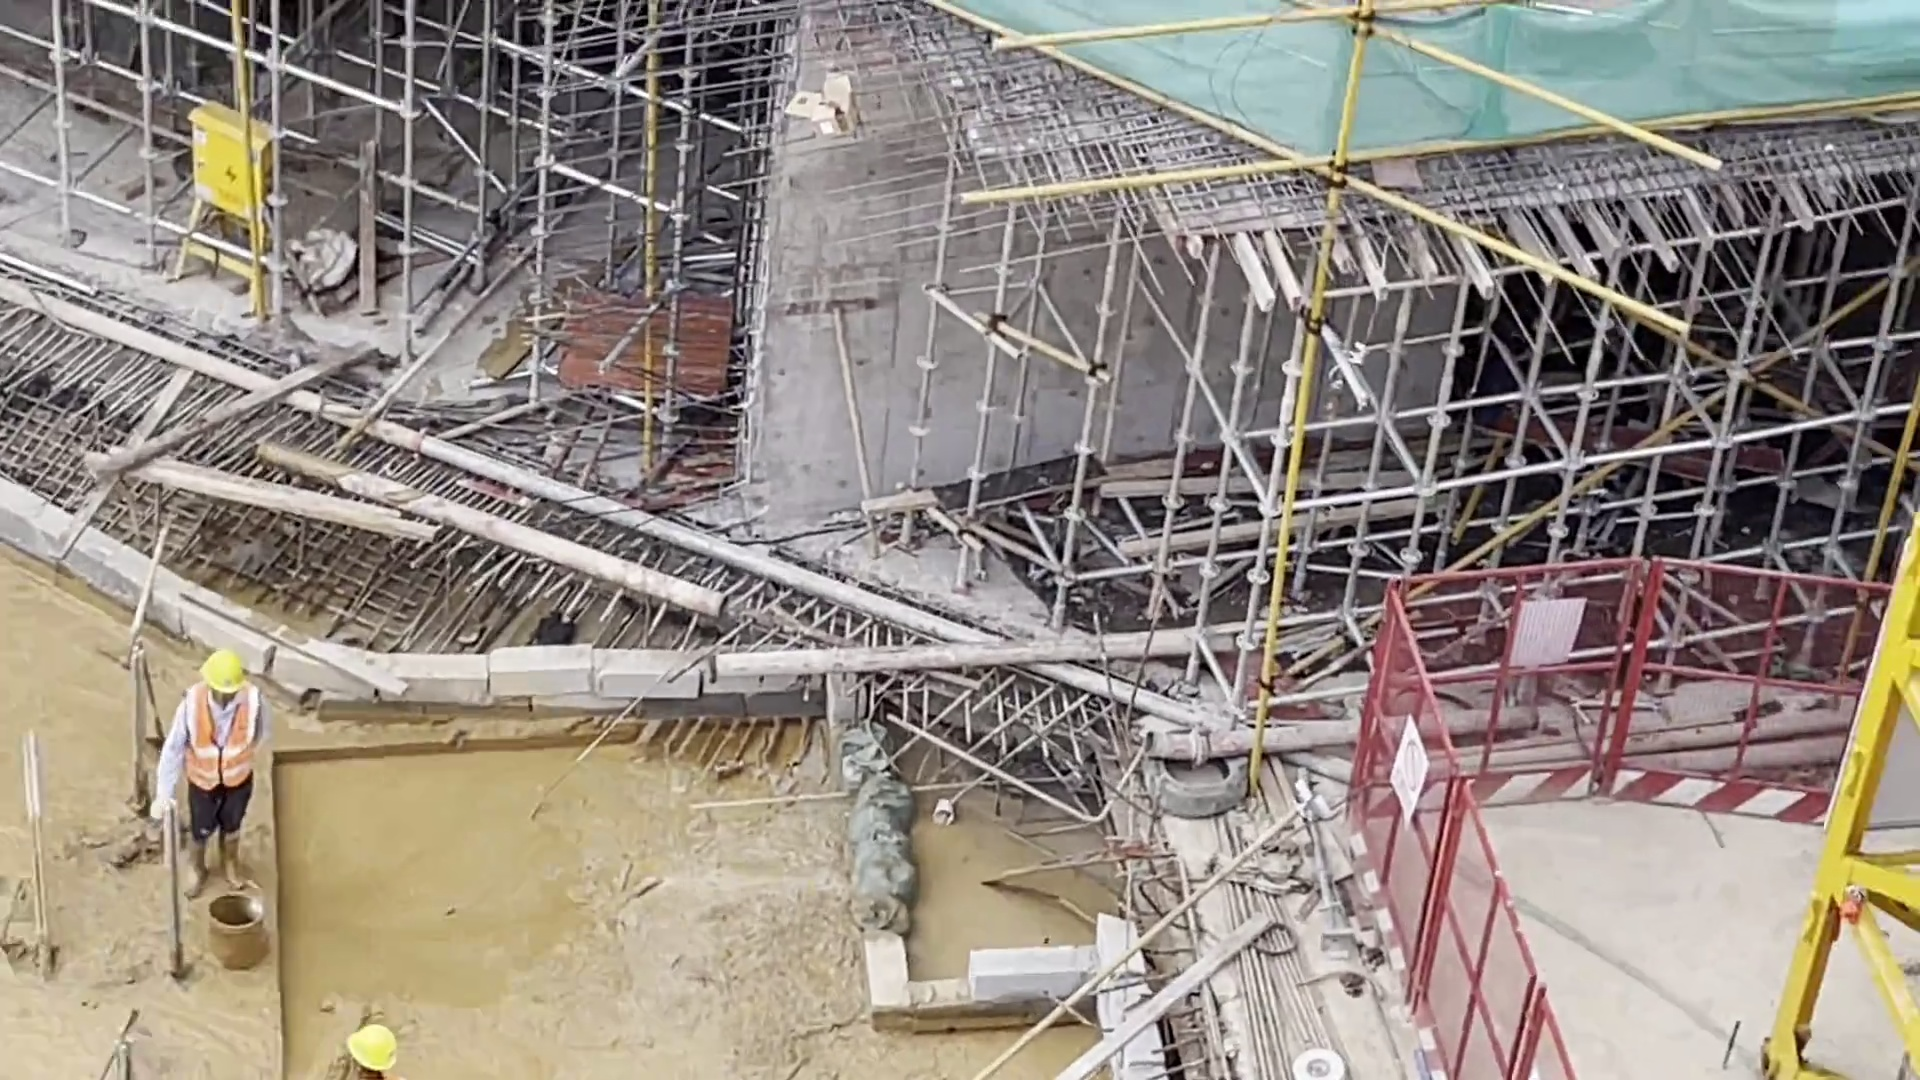helmet: (347, 1024, 403, 1075), (201, 648, 241, 694)
person: (167, 650, 271, 900)
vest: (181, 695, 259, 808)
